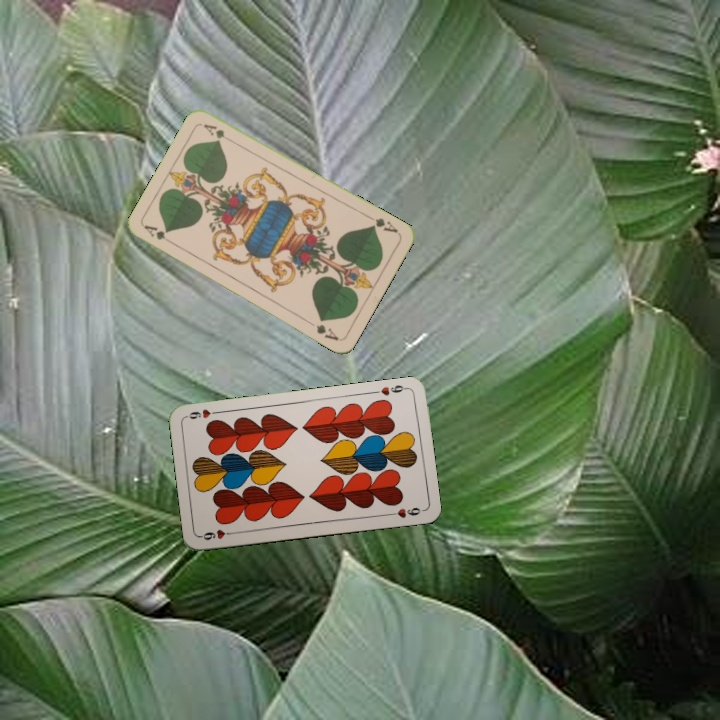GA: (140, 221, 177, 248), (363, 211, 400, 235)
H9: (197, 525, 238, 542), (370, 381, 410, 398)
